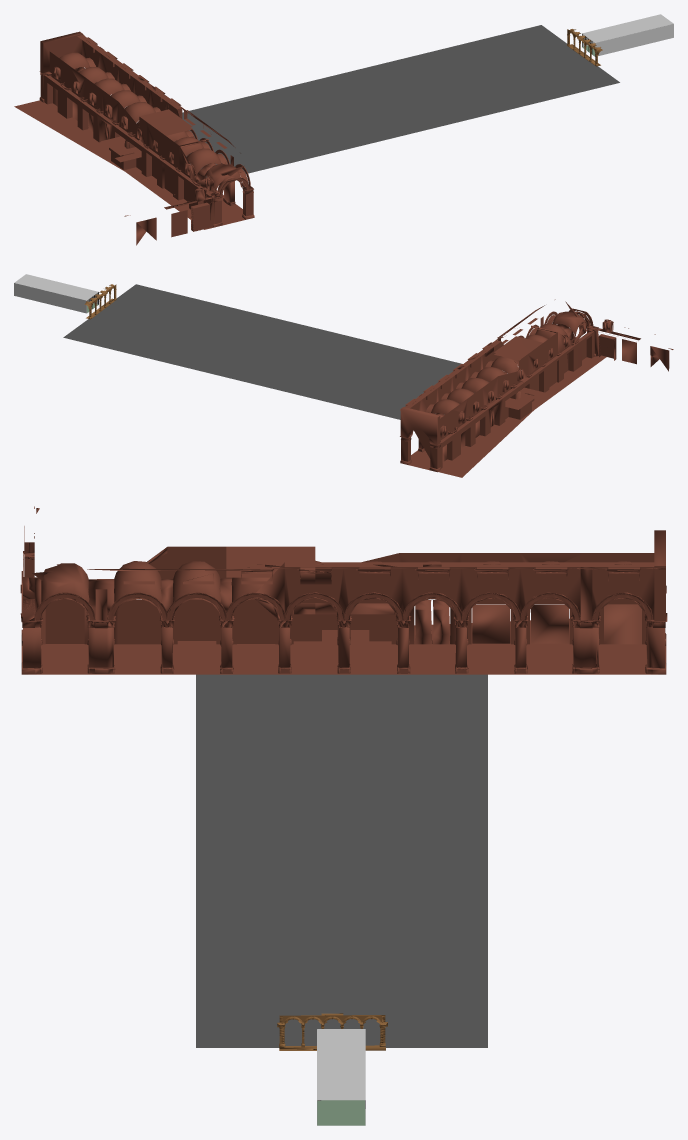
Rendered from cafeteria_inteira.fbx.
The picture shows the model from 3 angles, top to bottom: view 1: azimuth 30°, elevation 25°; view 2: azimuth 150°, elevation 25°; view 3: azimuth 270°, elevation 25°; orthographic projection. The views are drawn at different scales.
Visible parts, largest first — view 1: Plane, Indipendenza_24_AO, parede esquerda, teto, Indipendenza_58_AO; view 2: Plane, Indipendenza_24_AO, parede direita, teto, Indipendenza_58_AO; view 3: Plane, Indipendenza_24_AO, teto, Indipendenza_58_AO, chao.
Boxes of the visible parts, x1,y1,x2,y2 form: Plane: [182, 25, 619, 177]; Indipendenza_24_AO: [14, 31, 254, 245]; parede esquerda: [595, 24, 673, 56]; teto: [582, 14, 673, 42]; Indipendenza_58_AO: [567, 29, 602, 66]; Plane: [63, 284, 461, 419]; Indipendenza_24_AO: [400, 299, 673, 477]; parede direita: [14, 283, 86, 313]; teto: [14, 274, 98, 300]; Indipendenza_58_AO: [84, 284, 116, 319]; Plane: [196, 674, 487, 1047]; Indipendenza_24_AO: [20, 506, 667, 674]; teto: [317, 1029, 365, 1100]; Indipendenza_58_AO: [277, 1013, 387, 1050]; chao: [317, 1100, 365, 1125].
Bounding box in the file's own units: 9148 × 824 × 4435.
